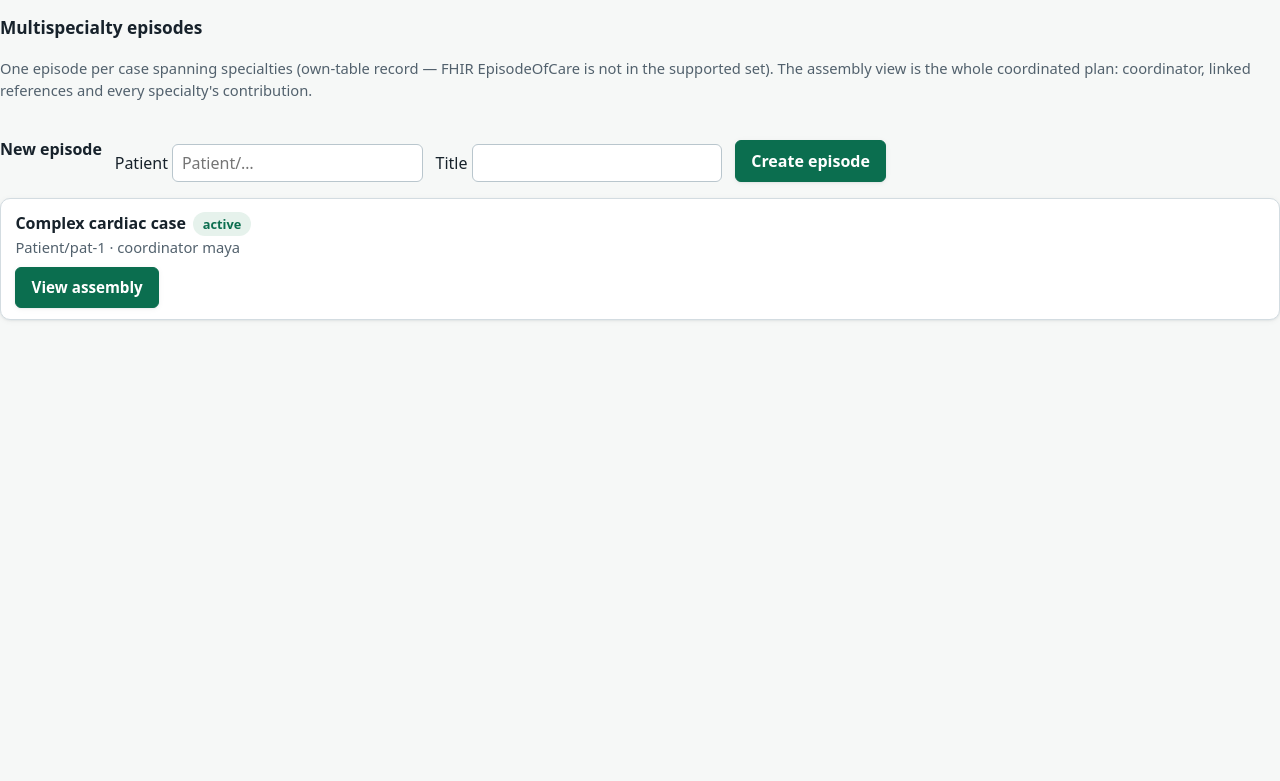
Test: Episodes (BD-25) › renders the assembly view with contributions grouped by specialty
This screenshot has width=1280, height=781.
Expected: the text "Complex cardiac case" is shown, [15,212,186,234]
Click the button "View assembly": {"x": 87, "y": 287} [15,267,159,308]
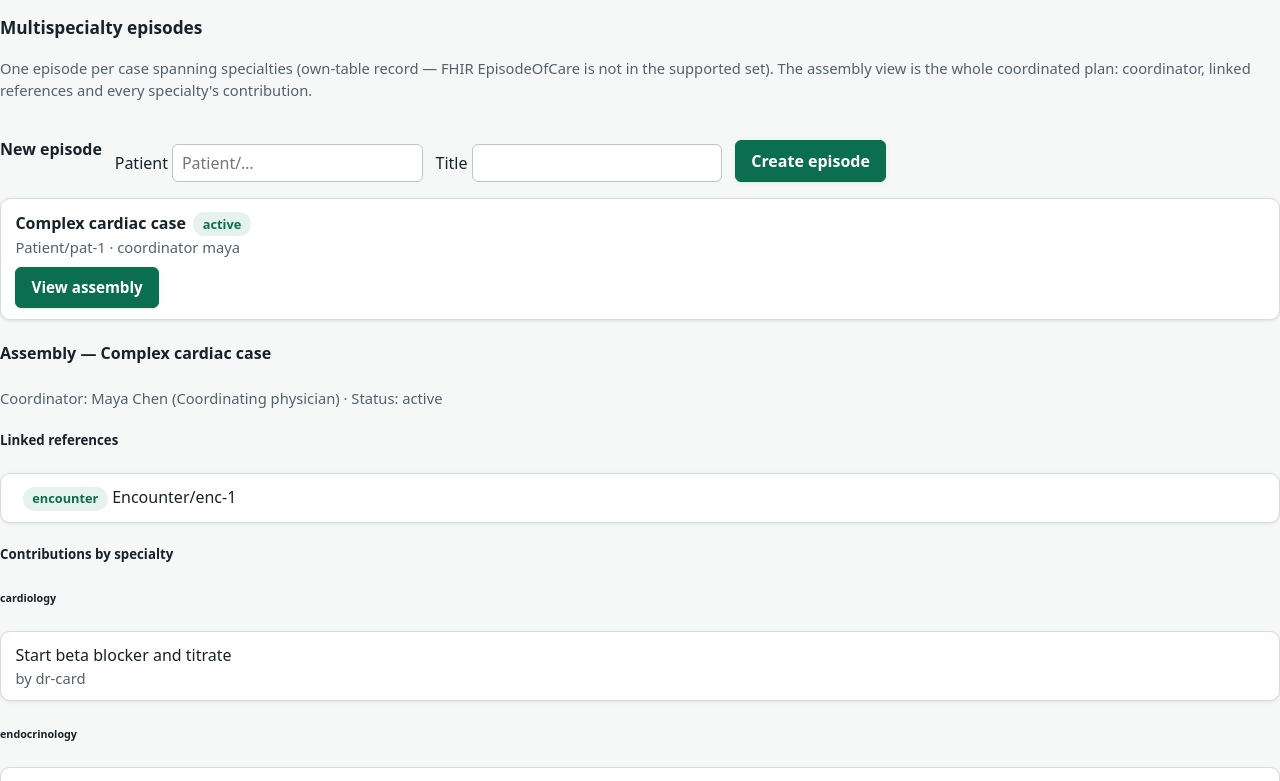
Now the heading "Assembly — Complex cardiac case" is shown, box [0,342,271,364]
Now the text "Start beta blocker and titrate" is shown, box [15,644,232,666]
Now the text "Maya Chen" is shown, box [91,388,340,408]
